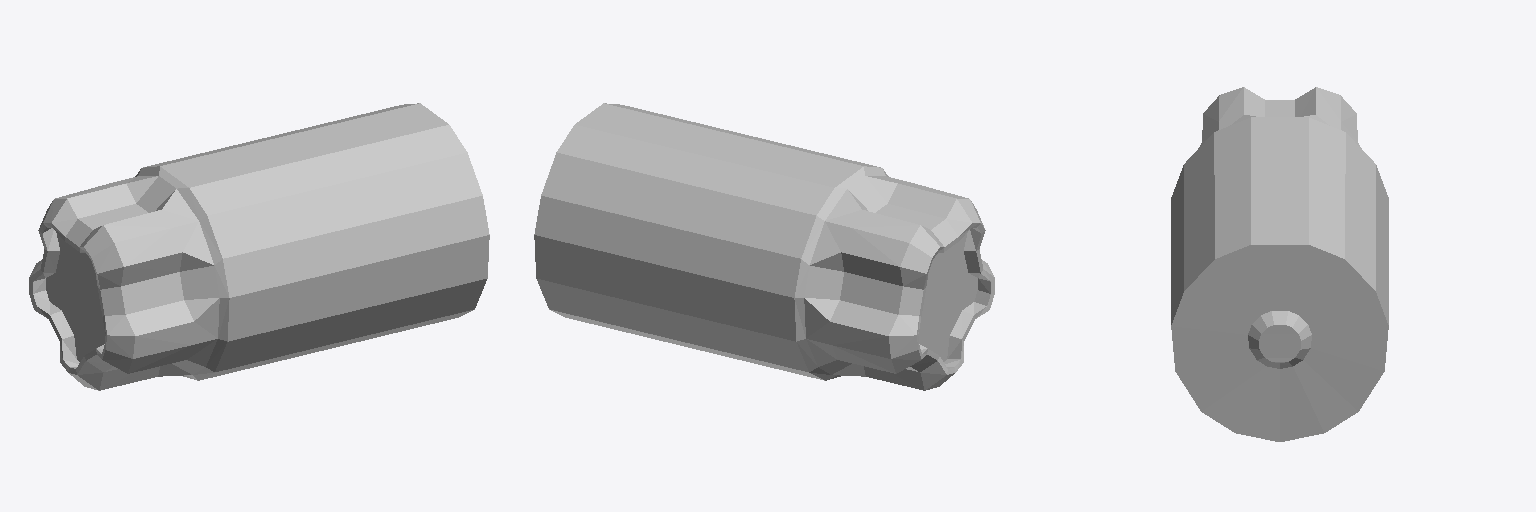
File: Carbine_Mag.obj
3 renders of one model, left to right at view 1: azimuth 30°, elevation 25°; view 2: azimuth 150°, elevation 25°; view 3: azimuth 270°, elevation 25°, orthographic.
Visible parts, largest first — view 1: default:default_default:default.037; view 2: default:default_default:default.037; view 3: default:default_default:default.037.
Part boxes in pixels (bbox=[...]): default:default_default:default.037: bbox=[29, 103, 489, 390]; default:default_default:default.037: bbox=[534, 103, 994, 390]; default:default_default:default.037: bbox=[1171, 87, 1388, 441].
Bounding box in the file's own units: 0.1187 × 0.0594 × 0.0595.